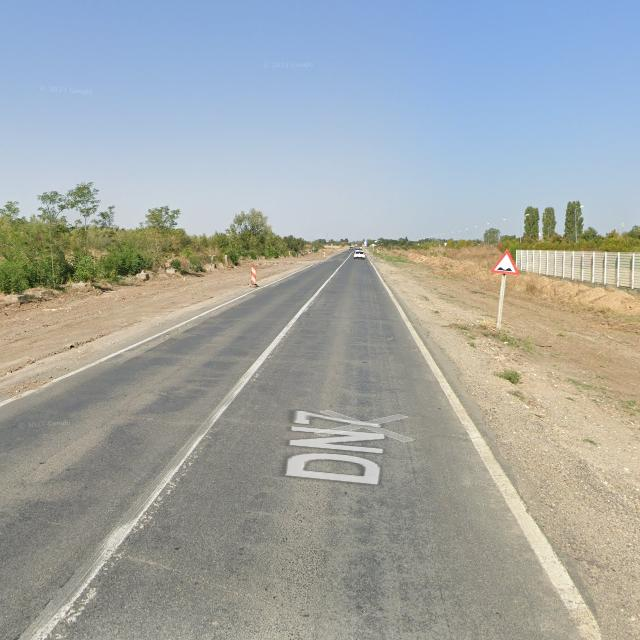warn_poor_road_surface: (490, 249, 520, 274)
